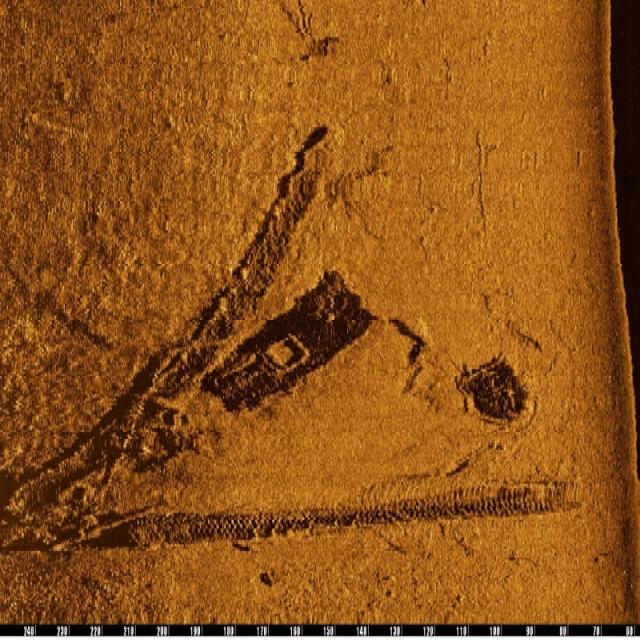ship: (130, 130, 334, 444), (114, 477, 588, 543), (202, 267, 371, 413)
